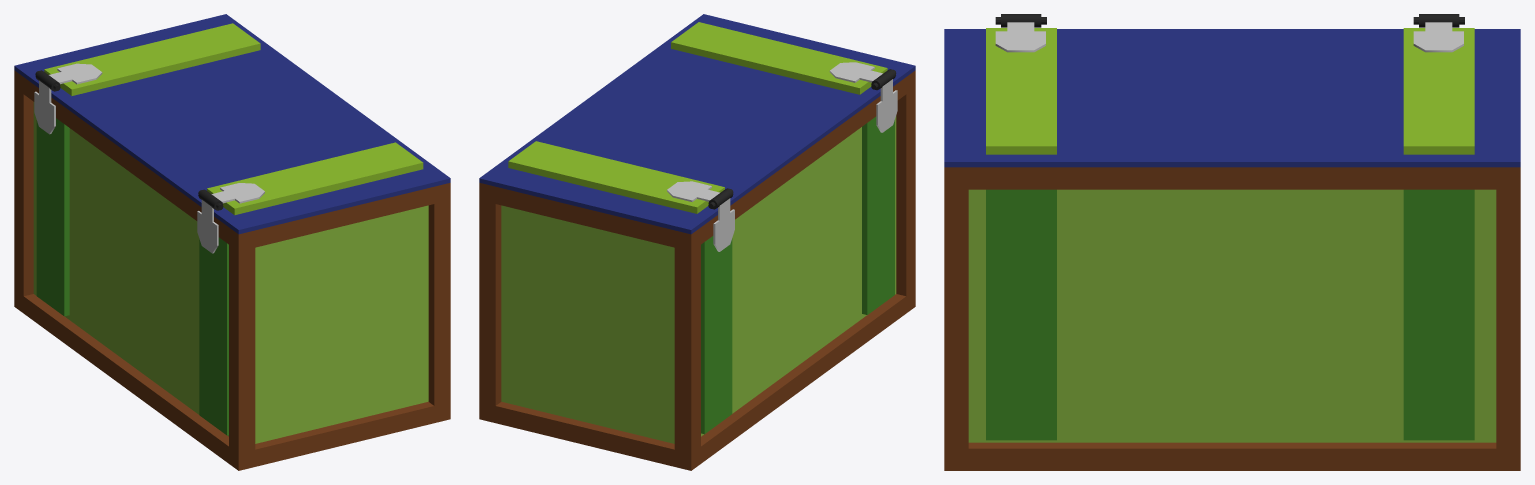
3 views of the same model, side by side, from view 1: azimuth 30°, elevation 25°; view 2: azimuth 150°, elevation 25°; view 3: azimuth 270°, elevation 25° (orthographic). The views are drawn at different scales.
Visible parts, largest first — view 1: Box001, Cylinder001, Box006, Box005, Box008, Box009, Box011; view 2: Box001, Cylinder001, Box005, Box006, Box008, Box011, Box009; view 3: Box001, Cylinder001, Box005, Box006, Box008.
Boxes of the visible parts, x1,y1,x2,y2 form: Box001: (14,70,450,470); Cylinder001: (14,14,450,234); Box006: (44,23,423,215); Box005: (36,118,228,435); Box008: (49,63,264,203); Box009: (34,80,55,134); Box011: (197,200,218,253); Box001: (479,70,915,470); Cylinder001: (479,14,915,234); Box005: (701,116,894,434); Box006: (508,22,887,213); Box008: (667,62,882,201); Box011: (876,79,897,132); Box009: (713,198,734,251); Box001: (944,167,1520,470); Cylinder001: (944,14,1520,167); Box005: (986,189,1474,440); Box006: (986,28,1474,154); Box008: (995,22,1463,52).
Size of the model in its own units: 51.83 by 58.37 by 93.93.
